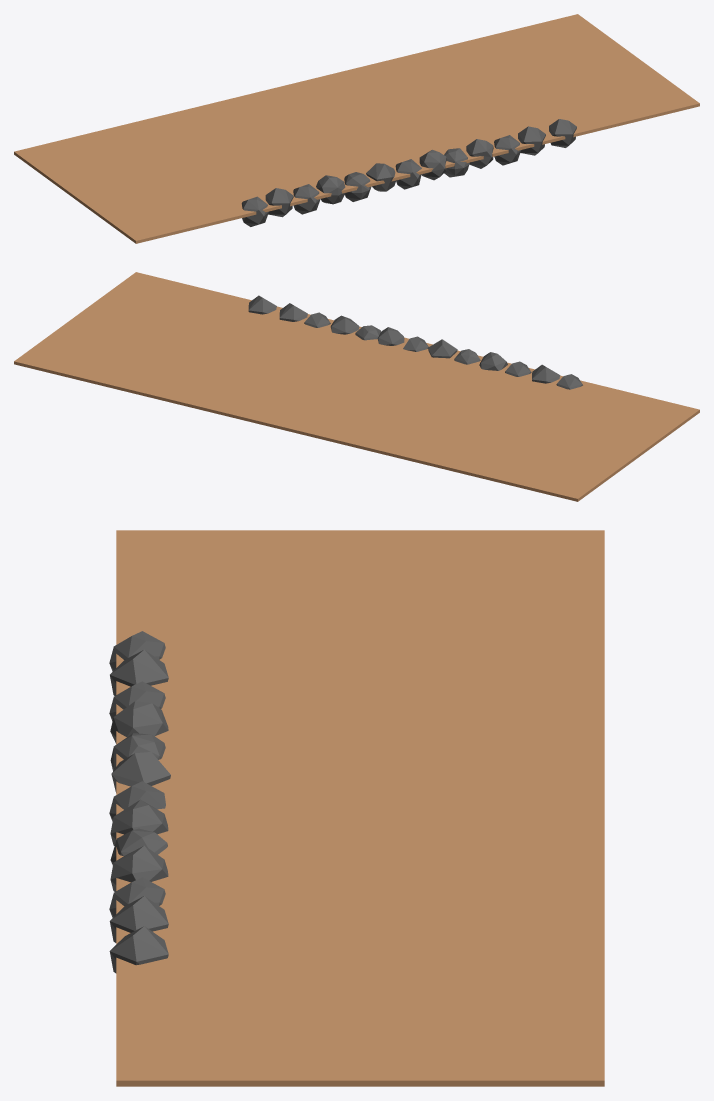
Rendered from Path.fbx.
The picture shows the model from 3 angles, top to bottom: view 1: azimuth 30°, elevation 25°; view 2: azimuth 150°, elevation 25°; view 3: azimuth 270°, elevation 25°; orthographic projection. The views are drawn at different scales.
Parts seen in each view (by area): view 1: Cube, Icosphere.004, Icosphere.008, Icosphere.010, Icosphere.006, Icosphere, Icosphere.002, Icosphere.007, Icosphere.005, Icosphere.012, Icosphere.013, Icosphere.003 (+2 smaller); view 2: Cube, Icosphere.010, Icosphere.006, Icosphere.004, Icosphere.008, Icosphere, Icosphere.012, Icosphere.002; view 3: Cube, Icosphere, Icosphere.004, Icosphere.010, Icosphere.002, Icosphere.012, Icosphere.006, Icosphere.008, Icosphere.003, Icosphere.013, Icosphere.009, Icosphere.007 (+2 smaller).
Part boxes in pixels (box(x1,y1,x2,y2)): Cube: box(14, 14, 699, 243); Icosphere.004: box(316, 175, 345, 204); Icosphere.008: box(419, 149, 446, 180); Icosphere.010: box(466, 139, 493, 168); Icosphere.006: box(366, 163, 396, 191); Icosphere: box(549, 119, 576, 147); Icosphere.002: box(265, 188, 293, 217); Icosphere.007: box(344, 172, 371, 201); Icosphere.005: box(293, 184, 320, 214); Icosphere.012: box(518, 126, 545, 155); Icosphere.013: box(494, 135, 521, 165); Icosphere.003: box(241, 196, 268, 226); Cube: box(14, 272, 699, 501); Icosphere.010: box(330, 315, 359, 334); Icosphere.006: box(428, 339, 457, 358); Icosphere.004: box(479, 352, 507, 370); Icosphere.008: box(377, 327, 404, 345); Icosphere: box(248, 295, 276, 314); Icosphere.012: box(279, 303, 307, 321); Icosphere.002: box(532, 364, 560, 383); Cube: box(116, 530, 604, 1086); Icosphere: box(109, 926, 168, 973); Icosphere.004: box(110, 701, 168, 743); Icosphere.010: box(110, 845, 168, 891); Icosphere.002: box(110, 649, 168, 695); Icosphere.012: box(109, 896, 168, 942); Icosphere.006: box(111, 752, 170, 792); Icosphere.008: box(110, 799, 168, 845); Icosphere.003: box(109, 631, 165, 671); Icosphere.013: box(109, 877, 165, 917); Icosphere.009: box(109, 781, 165, 821); Icosphere.007: box(110, 733, 165, 770).
Bounding box in the file's own units: 40000 × 2118 × 15214.
